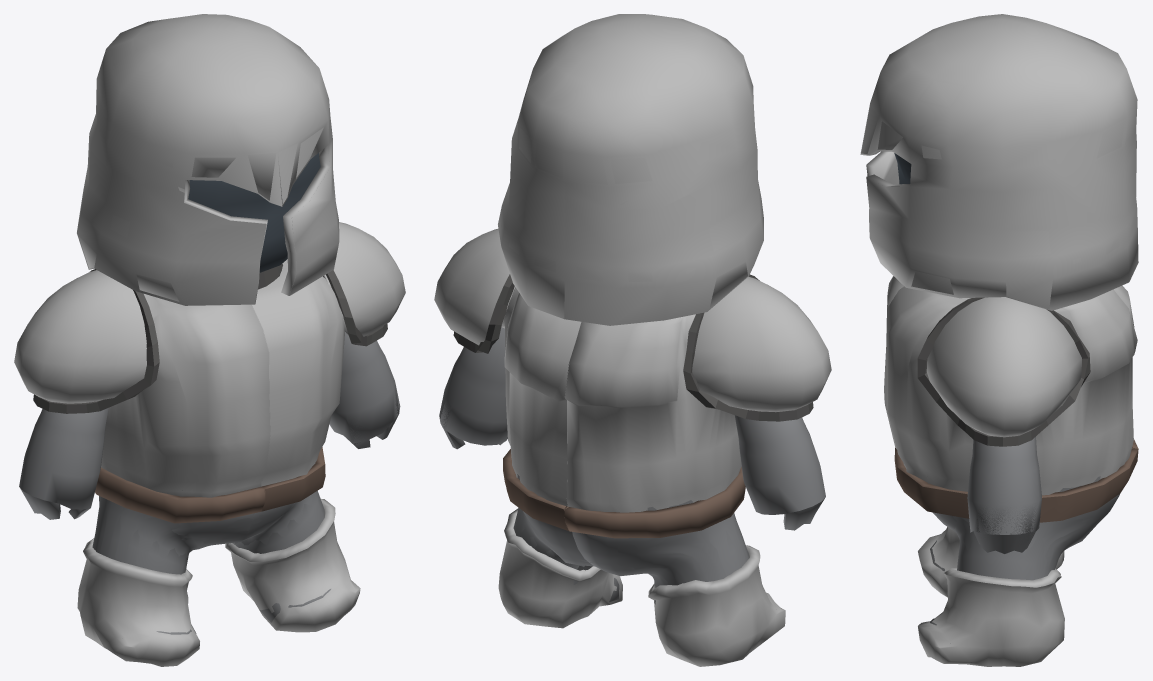
The model's file is knight.glb.
3 renders of one model, left to right at view 1: azimuth 30°, elevation 25°; view 2: azimuth 150°, elevation 25°; view 3: azimuth 270°, elevation 25°, orthographic. The views are drawn at different scales.
Visible parts, largest first — view 1: Trim.001, Trim, Armor, Body, Cylinder.002, Boots, Cylinder, Shoulder; view 2: Trim.001, Trim, Armor, Cylinder.002, Body, Boots, Belt; view 3: Trim, Trim.001, Armor, Shoulder, Cylinder.002, Boots, Body, Belt.
Part boxes in pixels (x1,y1,x2,y2): Trim.001: (14, 14, 392, 666); Trim: (77, 17, 405, 631); Armor: (77, 23, 337, 479); Body: (93, 495, 312, 566); Cylinder.002: (329, 332, 399, 448); Boots: (226, 528, 360, 632); Cylinder: (188, 172, 314, 219); Shoulder: (342, 261, 404, 335); Trim.001: (447, 14, 831, 666); Trim: (434, 18, 763, 627); Armor: (501, 26, 761, 504); Cylinder.002: (440, 327, 507, 448); Body: (514, 504, 747, 587); Boots: (500, 544, 622, 628); Belt: (503, 465, 568, 530); Trim: (861, 14, 1137, 666); Trim.001: (860, 31, 1138, 597); Armor: (884, 20, 1136, 495); Shoulder: (927, 297, 1079, 437); Cylinder.002: (968, 437, 1041, 553); Boots: (919, 574, 1064, 666); Body: (945, 516, 1101, 579); Belt: (897, 450, 1138, 517).
Size of the model in its own units: 4.01 by 6 by 2.57.
